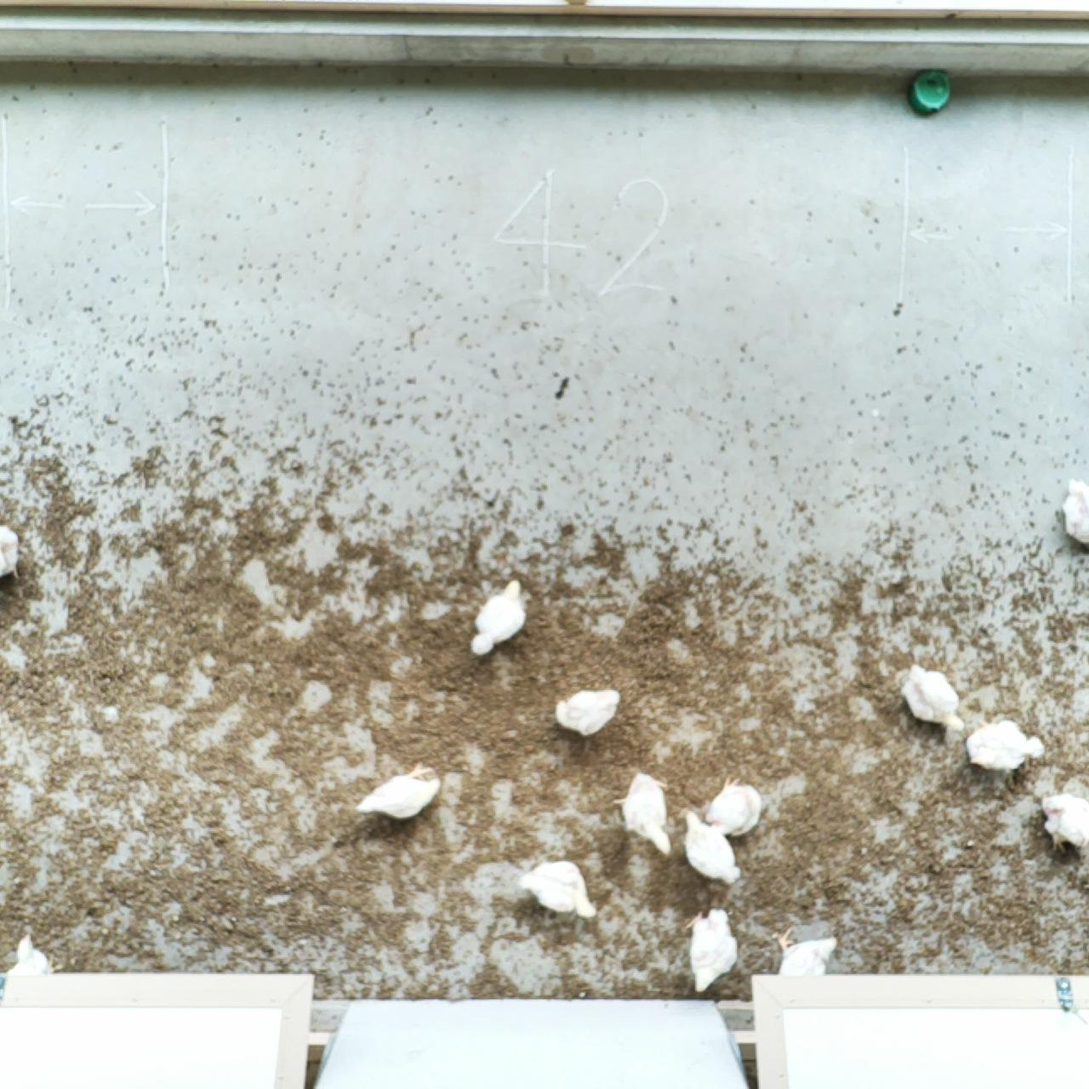chicken: (765, 920, 838, 1007), (609, 768, 675, 858), (514, 854, 599, 921), (354, 761, 444, 824), (684, 903, 743, 995), (898, 659, 966, 738), (470, 575, 529, 664), (963, 718, 1047, 775), (0, 934, 61, 1008), (680, 809, 741, 883), (702, 775, 769, 842), (553, 684, 630, 741), (1038, 787, 1089, 856), (1057, 477, 1089, 557), (0, 513, 22, 581)
